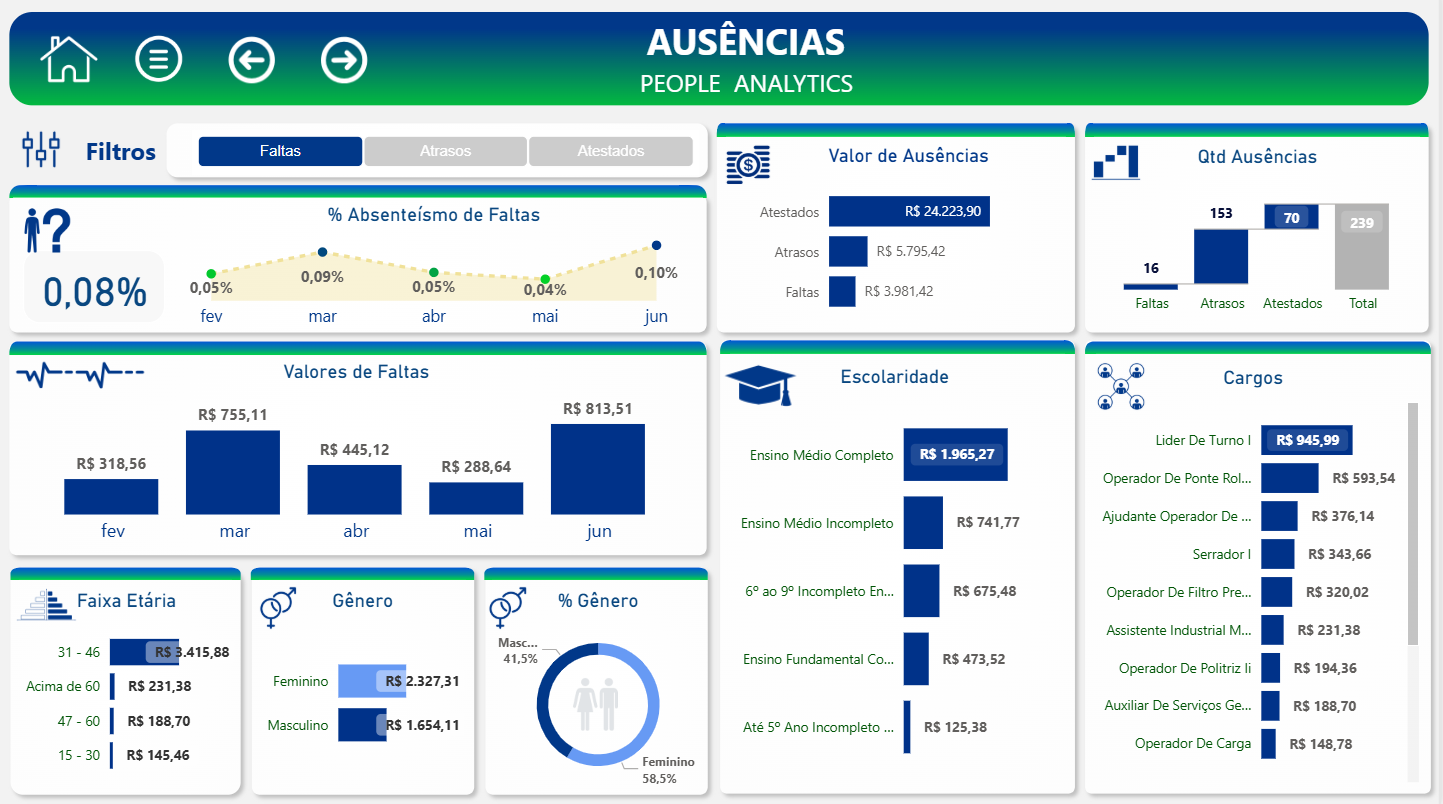

This screenshot's page, from the dashboard's own definition file:
{"tool":"powerbi","page":{"name":"Ausências","canvas":[1280,720],"ordinal":7},"visuals":[{"type":"clusteredBarChart","title":"Faixa Etária","fields":{"Category":["dFaixa_Etária.FAIXA ETÁRIA"],"Y":["MEDIDAS FICHA FINANCEIRA.Motivos"]},"box":[14.8,527.2,199.8,177.6],"z":0},{"type":"donutChart","title":"% Gênero","fields":{"Category":["dSexo.SEXO"],"Y":["MEDIDAS FICHA FINANCEIRA.Motivos"]},"box":[433.8,527.2,198.8,185.9],"z":1000},{"type":"clusteredBarChart","title":"Gênero","fields":{"Category":["dSexo.SEXO"],"Y":["MEDIDAS FICHA FINANCEIRA.Motivos"]},"box":[229.4,527.2,189.6,176.6],"z":2000},{"type":"clusteredBarChart","title":"Escolaridade","fields":{"Category":["Funcionarios.Escolaridade"],"Y":["MEDIDAS FICHA FINANCEIRA.Motivos"]},"box":[642.3,329.4,308.3,375.1],"z":3000},{"type":"lineClusteredColumnComboChart","fields":{"Category":["dCalendario.MÊS ABREVIADO"],"Y":["MEDIDAS FICHA FINANCEIRA.Motivos"]},"box":[11.1,324.6,614.1,172],"z":4000},{"type":"clusteredBarChart","title":"Cargos","fields":{"Category":["dCargos.Cargo"],"Y":["MEDIDAS FICHA FINANCEIRA.Motivos"]},"box":[962.2,329.8,303.7,374.2],"z":5000},{"type":"ChicletSlicer1448559807354","fields":{"Category":["dMotivo.MOTIVO"]},"box":[173,121,450,40],"z":6000},{"type":"textbox","box":[342.5,14.3,643.5,86.9],"z":7000},{"type":"textbox","box":[536.1,58.7,256.6,45.7],"z":8000},{"type":"textbox","title":"Filtar Gráfico","box":[48,119,98,42],"z":9000},{"type":"image","box":[15,115,48,45],"z":10000},{"type":"waterfallChart","title":"Qtd Ausências","fields":{"Y":["MEDIDAS FICHA FINANCEIRA.Qtdt Motivos"],"Category":["dMotivo.MOTIVO"]},"box":[969.1,133.6,297.1,158.3],"z":12000},{"type":"stackedAreaChart","fields":{"Category":["dCalendario.MÊS ABREVIADO"],"Y":["Medidas Financeiras.Absenteísmo %"]},"box":[145.3,185.5,483.9,120.6],"z":13000},{"type":"clusteredBarChart","title":"Valor de Ausências","fields":{"Y":["Medidas Financeiras.Motivos"],"Category":["dMotivo.MOTIVO"]},"box":[667,133,283,165],"z":14000},{"type":"card","fields":{"Values":["Medidas Financeiras.Absenteísmo %"]},"box":[23.4,227,125.8,64.9],"z":15000},{"type":"image","box":[14.3,181.6,61,55.8],"z":16000},{"type":"actionButton","box":[35,27.2,58.4,66.2],"z":17000},{"type":"actionButton","box":[116.5,25.1,53.8,66.3],"z":18000},{"type":"actionButton","box":[197.2,26.9,57.4,66.3],"z":19000},{"type":"actionButton","box":[274.3,30.5,68.1,53.8],"z":20000}]}

Visuals, with their boxes in screenshot pixels (x1, y1, x2, y2), scaled from the page's 1280x720 canvas onto the 1443x804 screenshot:
"Faixa Etária" clusteredBarChart: detection(17, 589, 242, 787)
"% Gênero" donutChart: detection(489, 589, 713, 796)
"Gênero" clusteredBarChart: detection(259, 589, 472, 786)
"Escolaridade" clusteredBarChart: detection(724, 368, 1072, 787)
lineClusteredColumnComboChart - dCalendario.MÊS ABREVIADO x MEDIDAS FICHA FINANCEIRA.Motivos: detection(13, 362, 705, 555)
"Cargos" clusteredBarChart: detection(1085, 368, 1427, 786)
ChicletSlicer1448559807354 - dMotivo.MOTIVO: detection(195, 135, 702, 180)
textbox: detection(386, 16, 1112, 113)
textbox: detection(604, 66, 894, 117)
"Filtar Gráfico" textbox: detection(54, 133, 165, 180)
image: detection(17, 128, 71, 179)
"Qtd Ausências" waterfallChart: detection(1093, 149, 1427, 326)
stackedAreaChart - dCalendario.MÊS ABREVIADO x Medidas Financeiras.Absenteísmo %: detection(164, 207, 709, 342)
"Valor de Ausências" clusteredBarChart: detection(752, 149, 1071, 333)
card - Medidas Financeiras.Absenteísmo %: detection(26, 253, 168, 326)
image: detection(16, 203, 85, 265)
actionButton: detection(39, 30, 105, 104)
actionButton: detection(131, 28, 192, 102)
actionButton: detection(222, 30, 287, 104)
actionButton: detection(309, 34, 386, 94)
